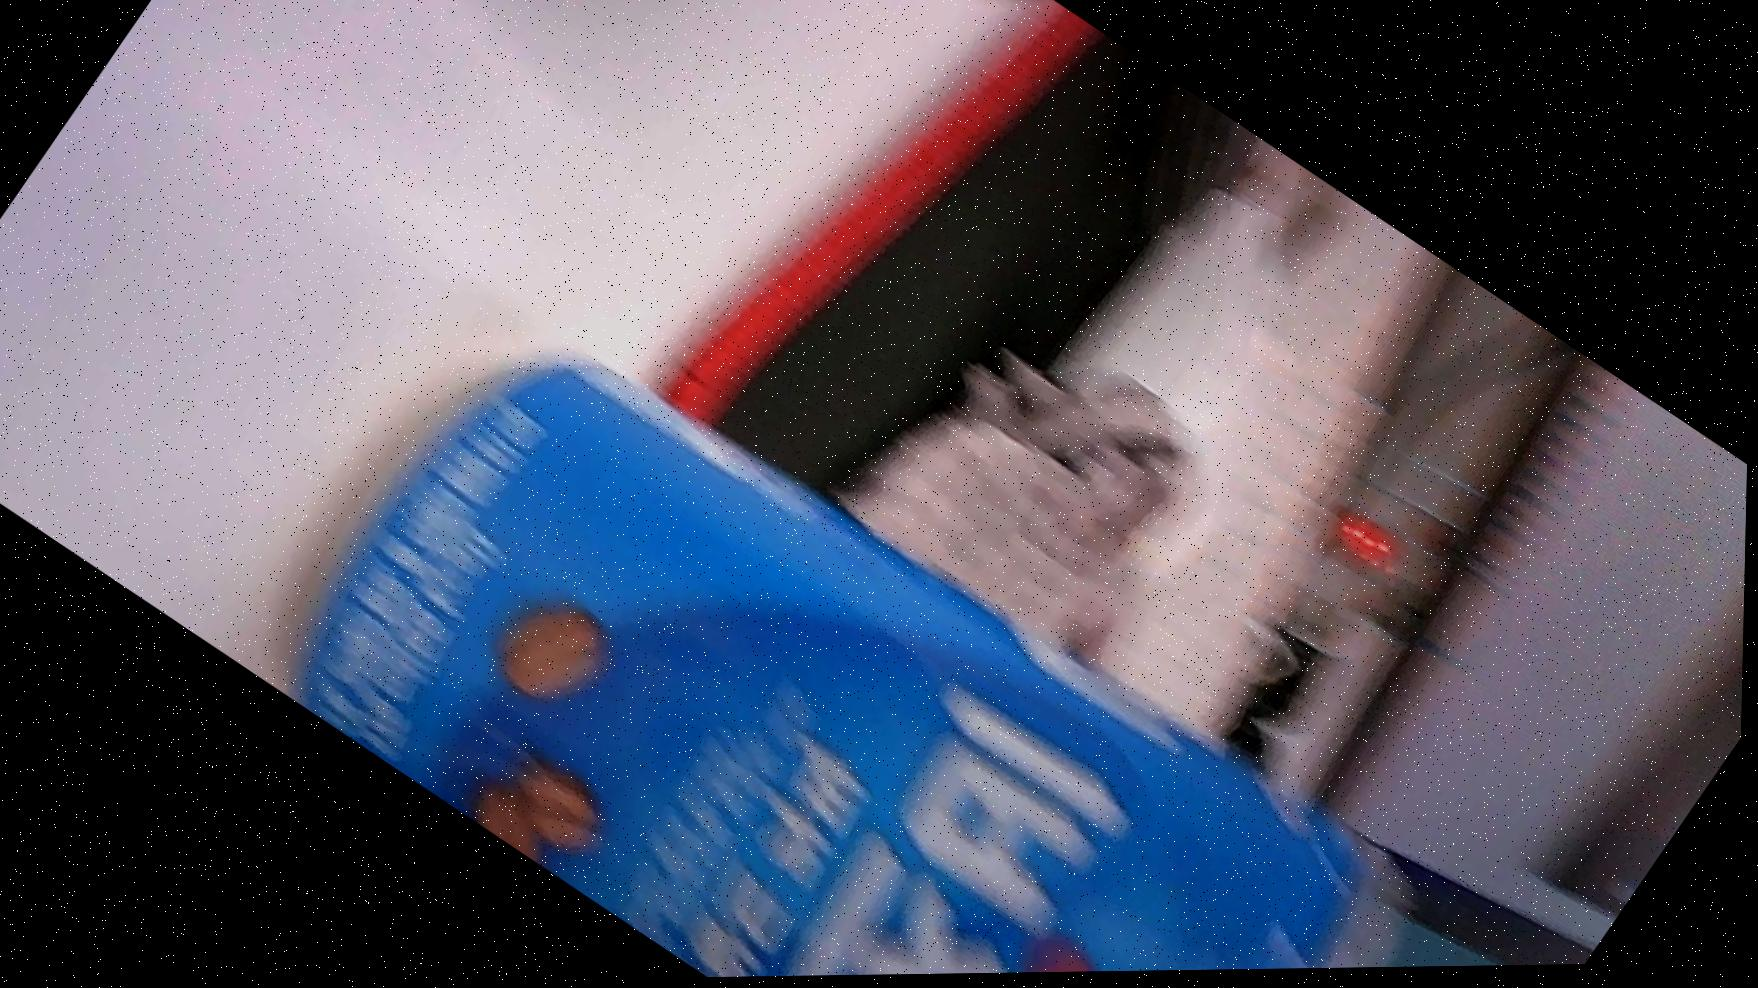letsbe: (249, 266, 1480, 984)
